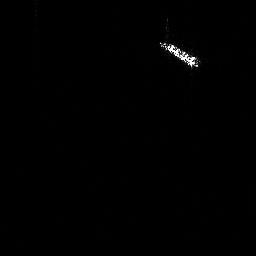ship: (161, 41, 200, 68)
